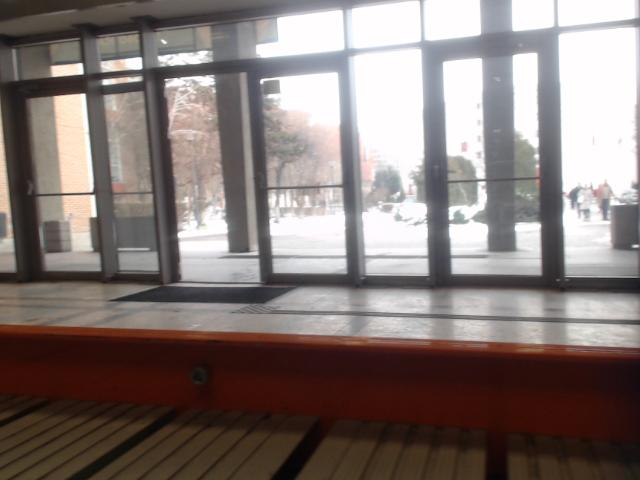rampDown: (0, 325, 639, 479)
